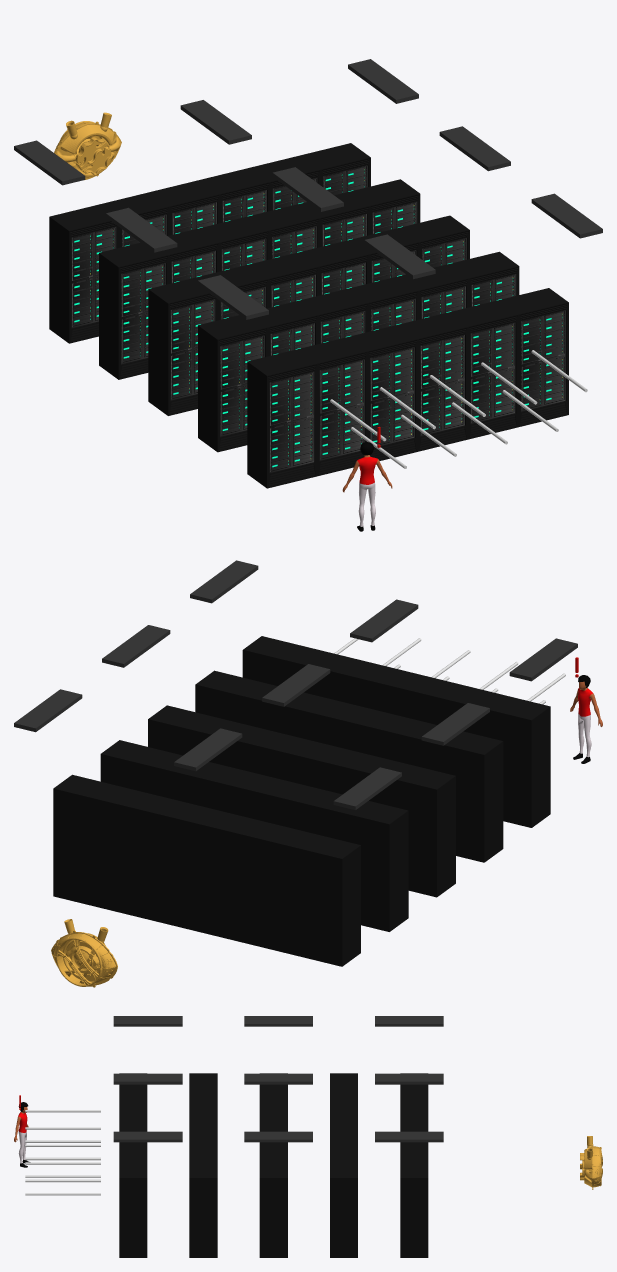
3 renders of one model, top to bottom at view 1: azimuth 30°, elevation 25°; view 2: azimuth 150°, elevation 25°; view 3: azimuth 270°, elevation 25°, orthographic. The views are drawn at different scales.
Parts seen in each view (by area): view 1: Cluster, LampTeto.003, Rear Case, corpo.001, Inner Eye; view 2: Cluster, LampTeto.003, Eye of Agamotto, Rear Case, corpo.001; view 3: Cluster, LampTeto.003, corpo.001, Rear Case, Eye of Agamotto.
Part boxes in pixels (x1,y1,x2,y2): Cluster: [49, 143, 568, 488]; LampTeto.003: [14, 59, 602, 319]; Rear Case: [54, 112, 121, 180]; corpo.001: [342, 455, 392, 531]; Inner Eye: [74, 137, 111, 175]; Cluster: [53, 636, 550, 966]; LampTeto.003: [14, 560, 577, 810]; Eye of Agamotto: [51, 933, 116, 986]; Rear Case: [51, 919, 117, 987]; corpo.001: [570, 681, 602, 763]; Cluster: [119, 1073, 428, 1257]; LampTeto.003: [113, 1016, 443, 1142]; corpo.001: [14, 1107, 30, 1167]; Rear Case: [584, 1136, 593, 1189]; Eye of Agamotto: [593, 1146, 601, 1187].
Size of the model in its own units: 3.76 by 1.95 by 7.58.
13 materials, 1 textured.
